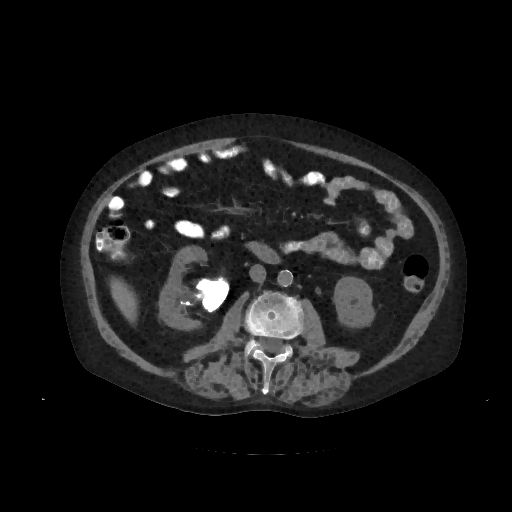Lesion: (174, 273, 236, 313)
